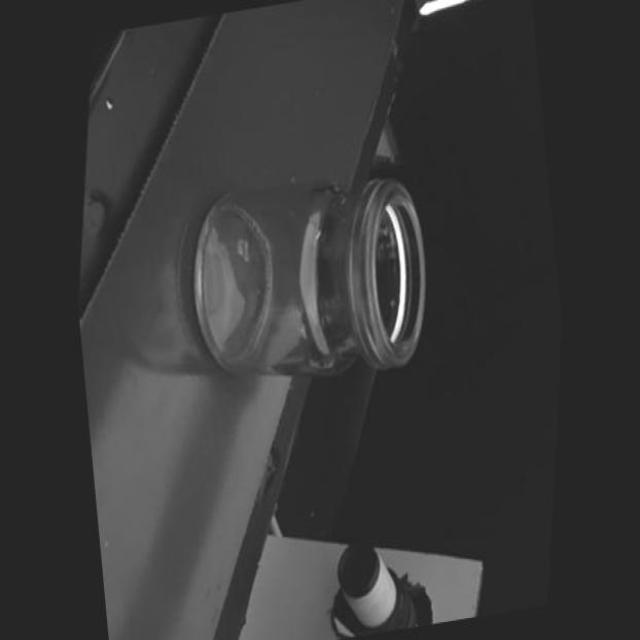defect: (310, 227, 323, 256)
glass: (166, 119, 452, 434)
